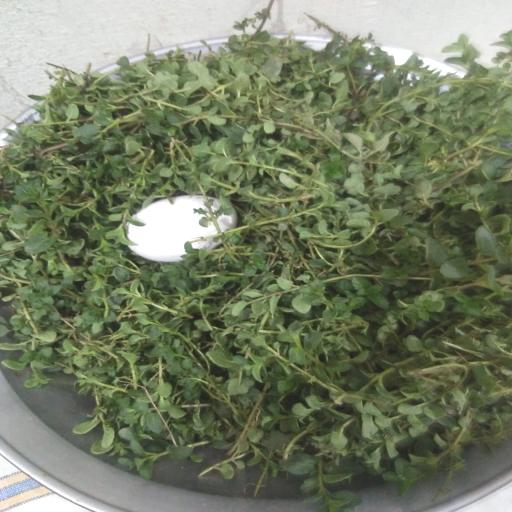telur: (117, 200, 251, 268)
